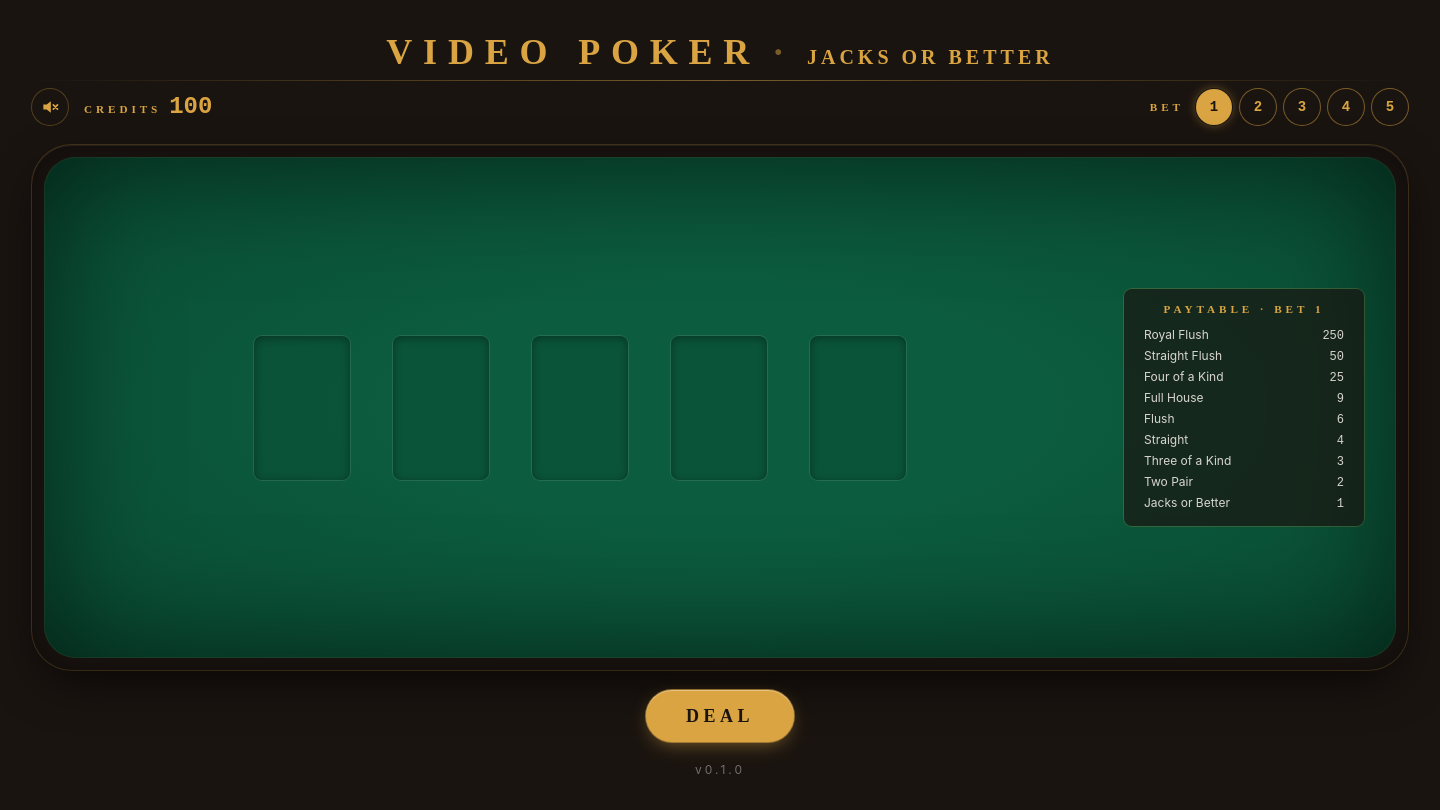
Test case: the economy › raises the stake and rescales every paytable row
This screenshot has width=1440, height=810.
What coordinates should you click on to do the following:
click the button named "BET 3"
I would click on:
 (1302, 107)
Its box is [1284,89,1320,125].
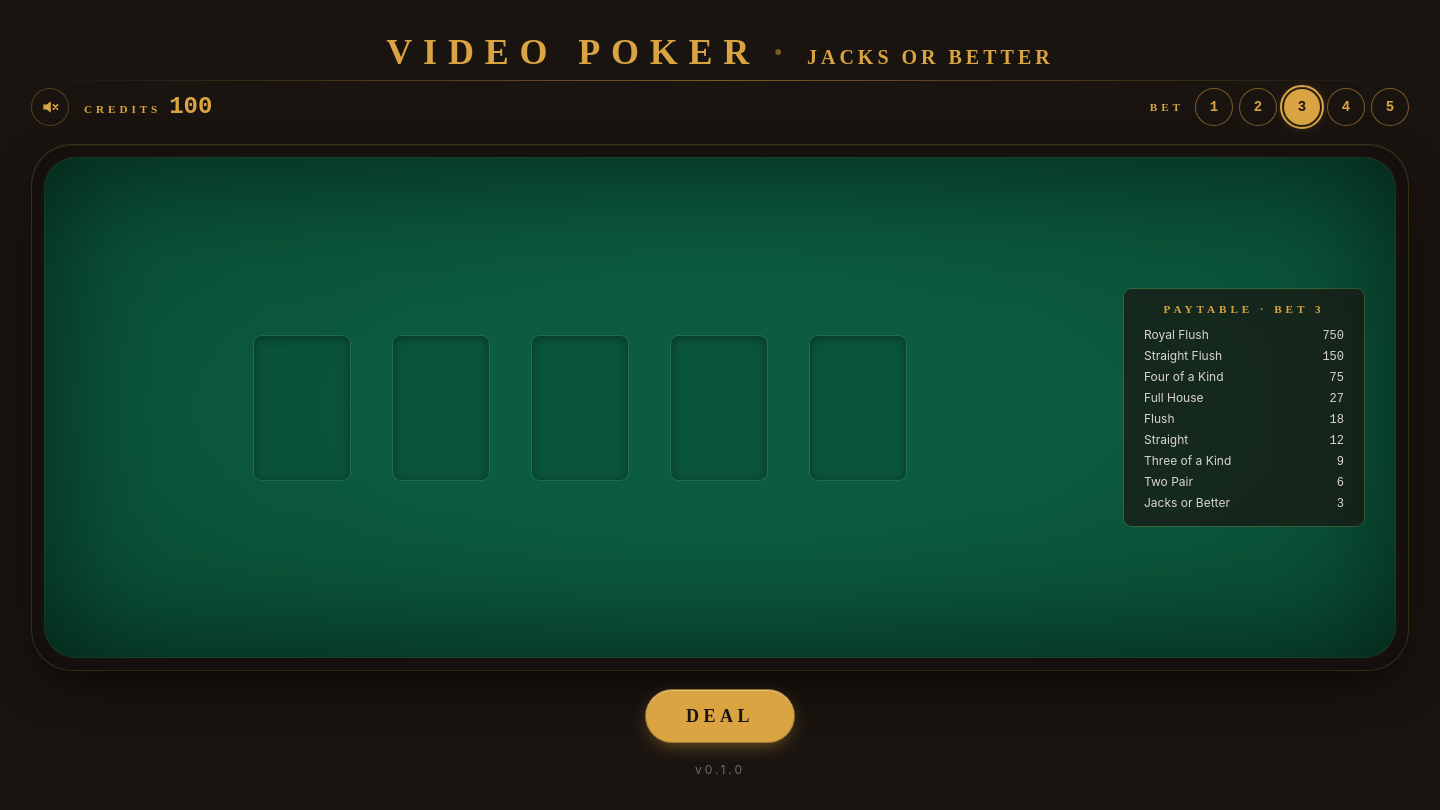
Expected: the text with test id "credits" reads "100", [169,93,212,120]
Expected: the list item "Royal Flush" shows "750", [1322,329,1344,343]
